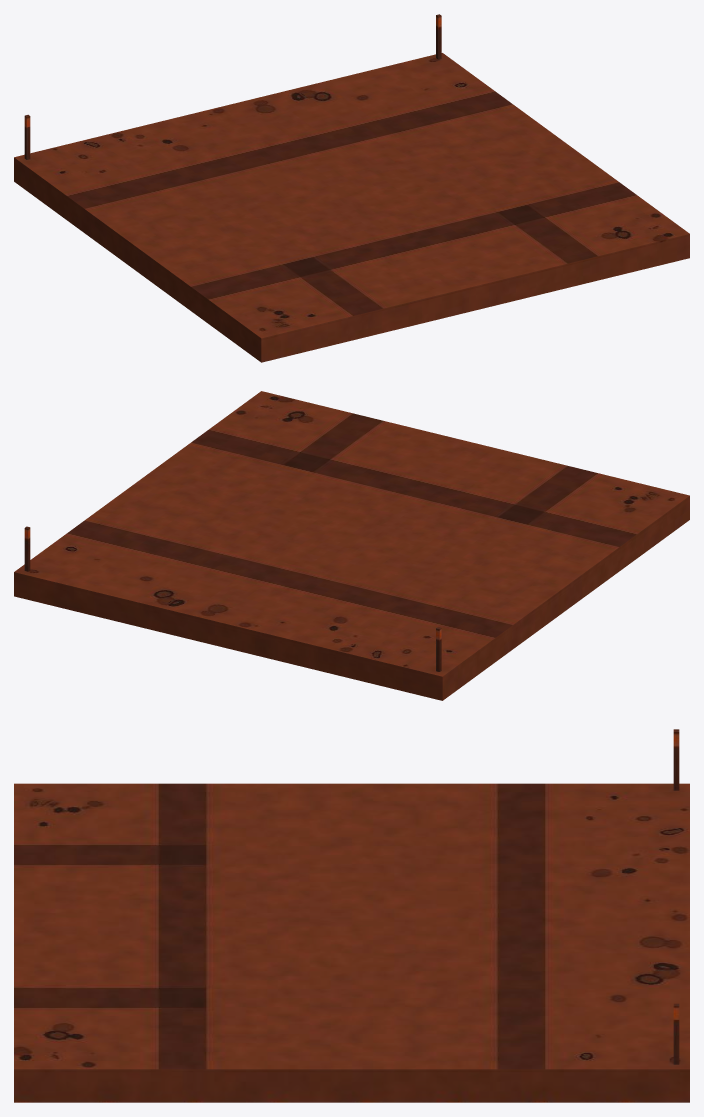
Rendered from road_junction.glb.
3 views of the same model, one above another, from view 1: azimuth 30°, elevation 25°; view 2: azimuth 150°, elevation 25°; view 3: azimuth 270°, elevation 25° (orthographic). The views are drawn at different scales.
Parts seen in each view (by area): view 1: road_junction; view 2: road_junction; view 3: road_junction.
Boxes of the visible parts, x1,y1,x2,y2 form: road_junction: (14,14,689,362); road_junction: (14,391,689,700); road_junction: (14,729,689,1102).
Size of the model in its own units: 6 by 0.9 by 6.
Materials: 1 (1 with a texture image).
